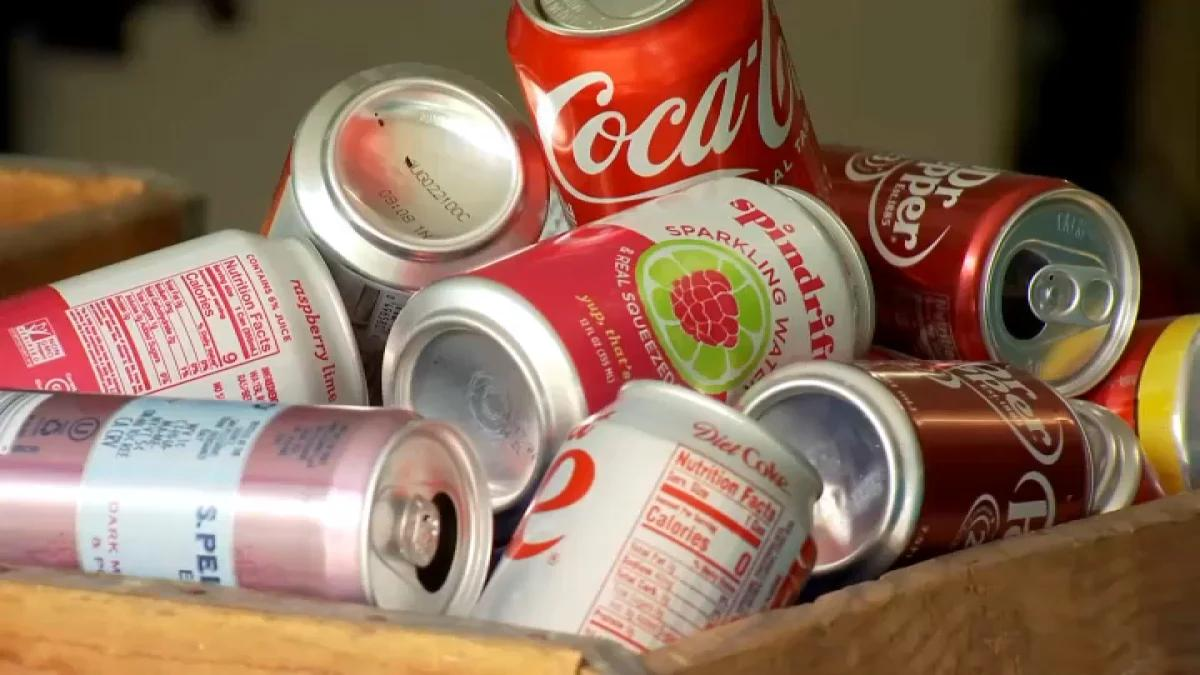metal: (399, 180, 869, 498), (0, 371, 488, 627), (491, 372, 833, 642), (808, 119, 1134, 382), (269, 41, 556, 337), (734, 352, 1140, 553), (484, 0, 834, 212), (0, 219, 381, 408)
